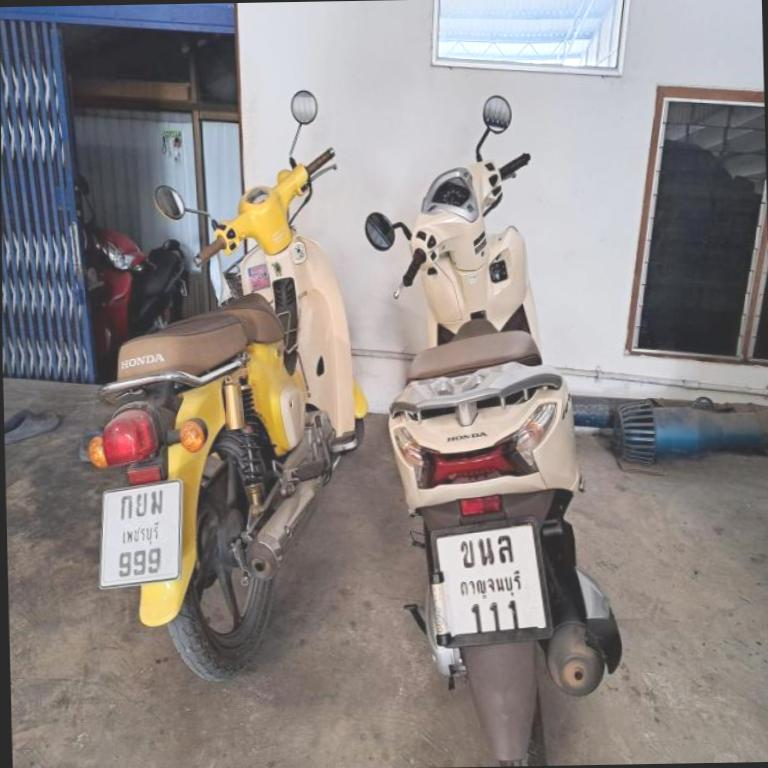license plate: (433, 519, 549, 643), (100, 481, 179, 585)
